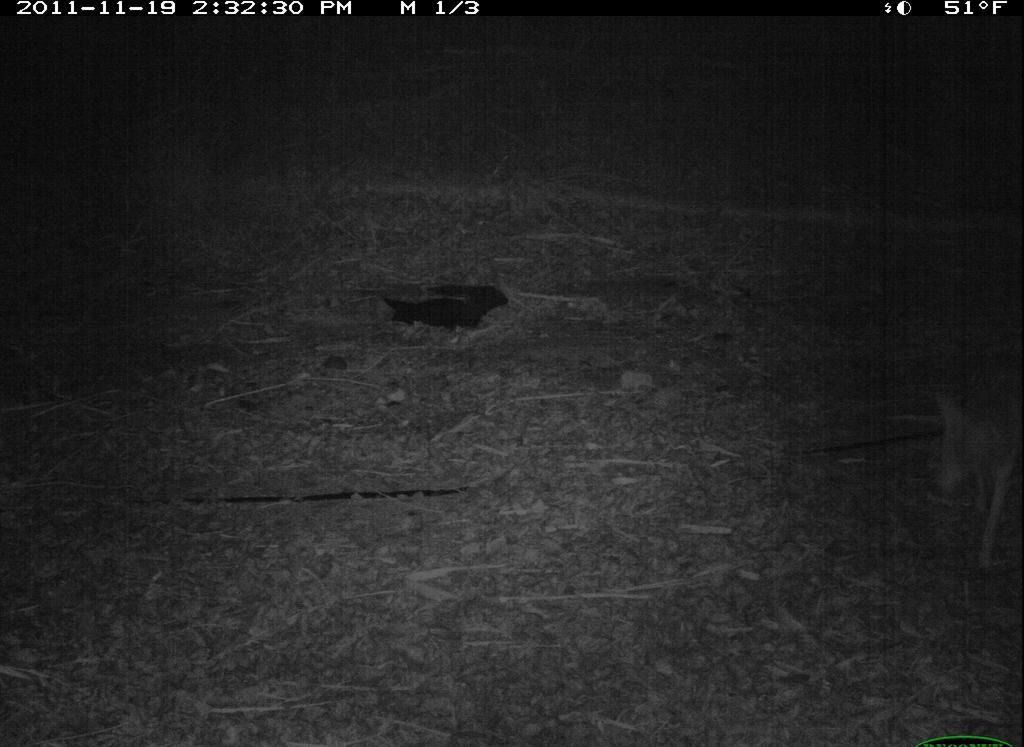coyote: (921, 378, 1023, 566)
